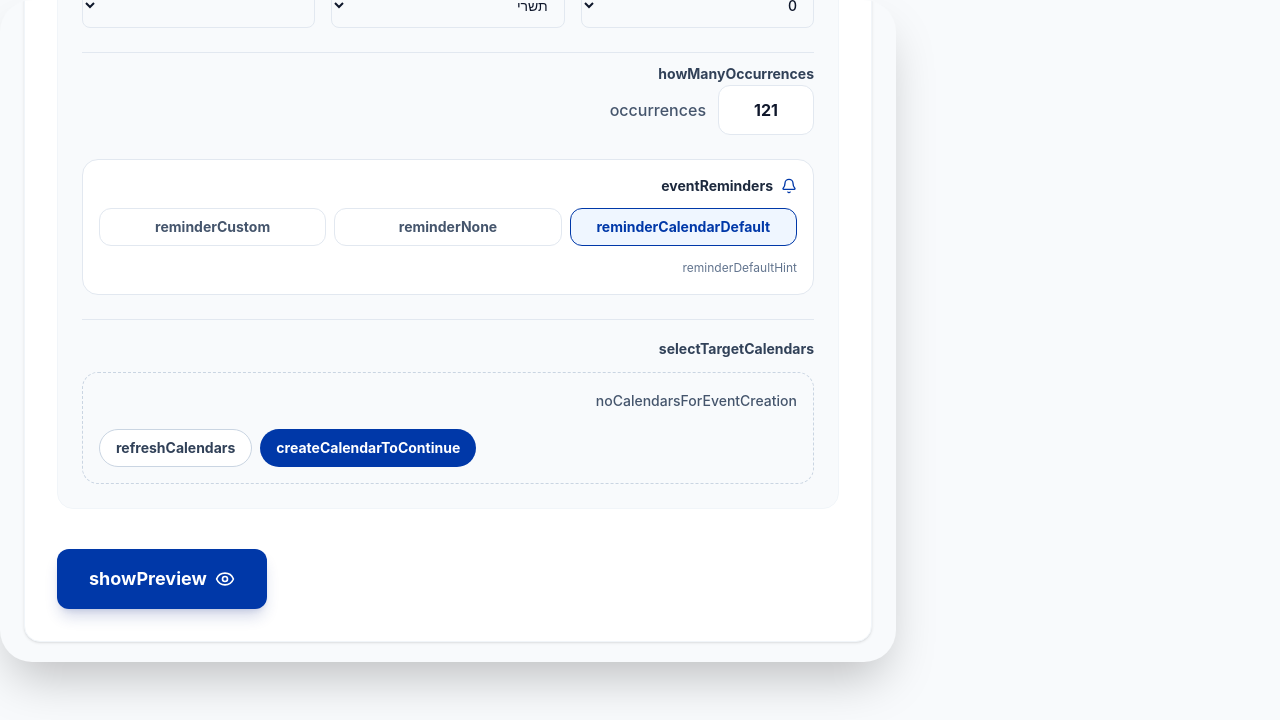
Scenario: AddEvent Component › should create a calendar from the empty state and refresh the list
(page scrolled)
Click the button "createCalendarToContinue". click: x=368, y=448
box: [260,429,476,467]
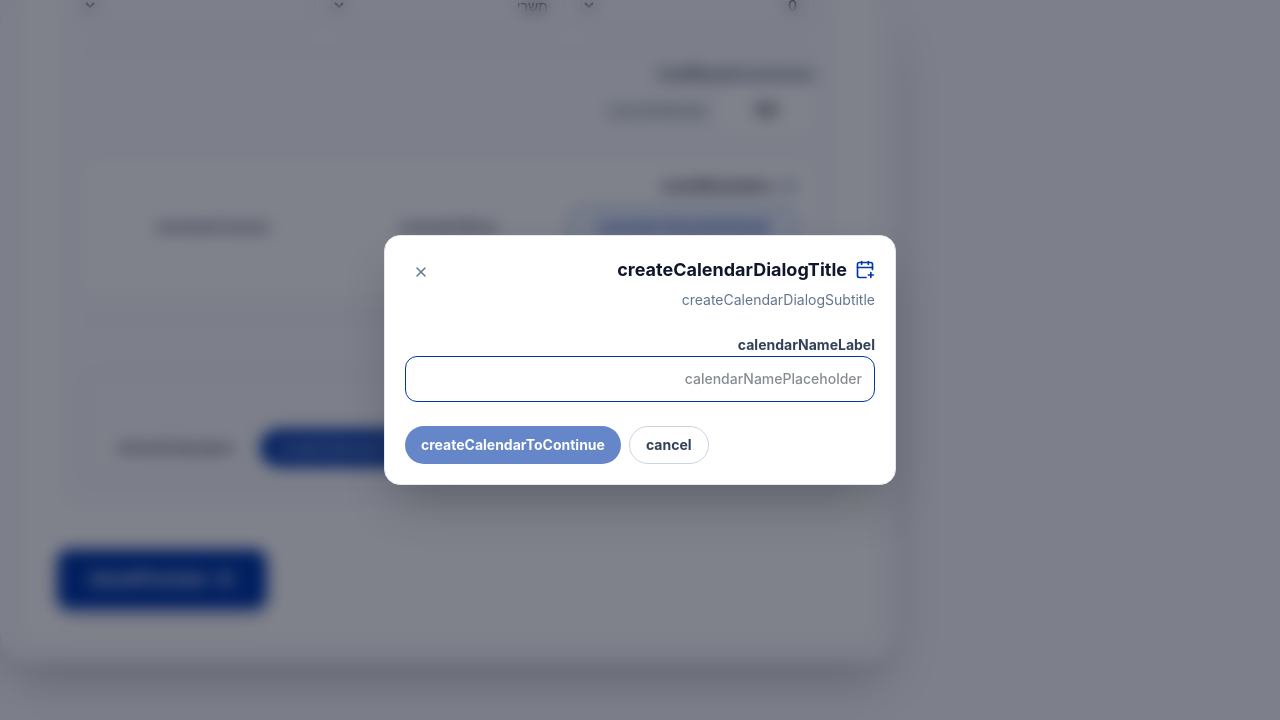
Type "New Calendar" into the field labelled "calendarNameLabel". click: x=640, y=379
box: [405,356,875,402]
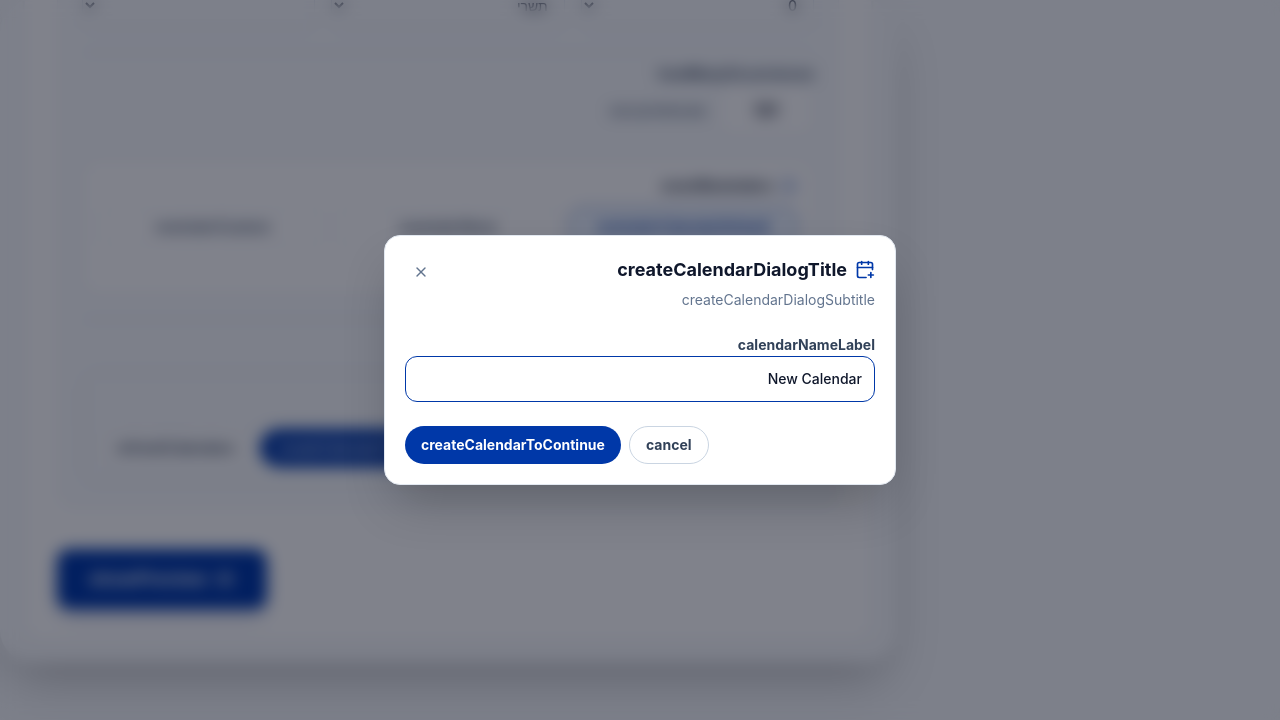
Click the button "createCalendarToContinue". click: x=513, y=445
box: [405,426,621,464]
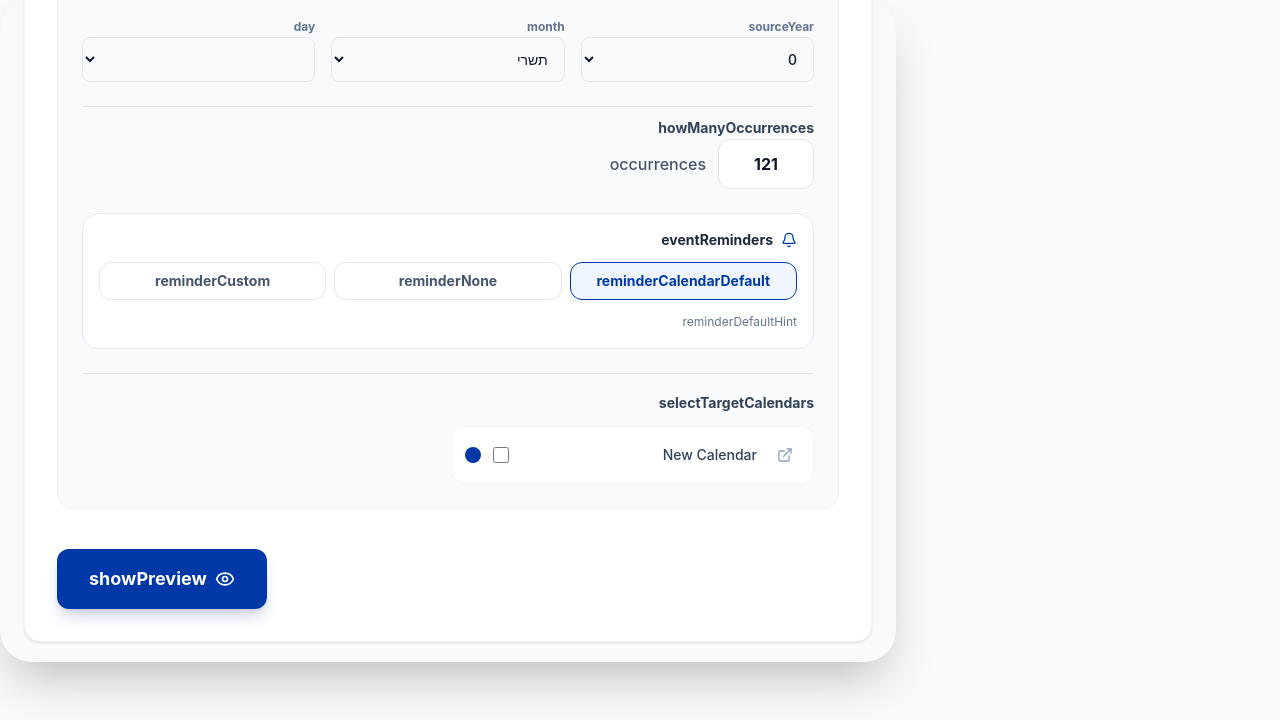
Expected: the text "New Calendar" is shown, [663,446,757,463]
